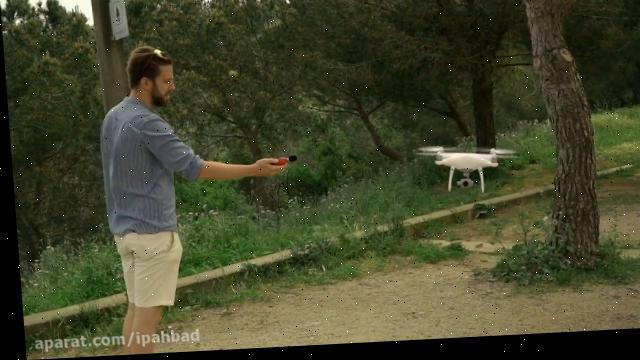drone: (413, 148, 517, 199)
